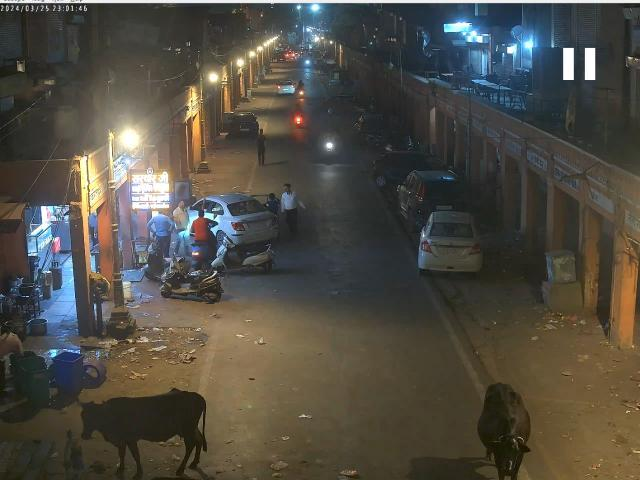car: (182, 192, 282, 246), (416, 210, 484, 278), (396, 168, 472, 224), (373, 148, 446, 186)
cattle: (76, 386, 208, 480), (478, 378, 532, 478)
license_plate: (441, 247, 462, 256), (250, 221, 268, 227), (436, 205, 453, 210)
person: (278, 180, 306, 238), (148, 210, 172, 258), (173, 200, 192, 258)
scooty: (159, 254, 223, 301), (212, 235, 276, 276), (143, 240, 192, 280)
